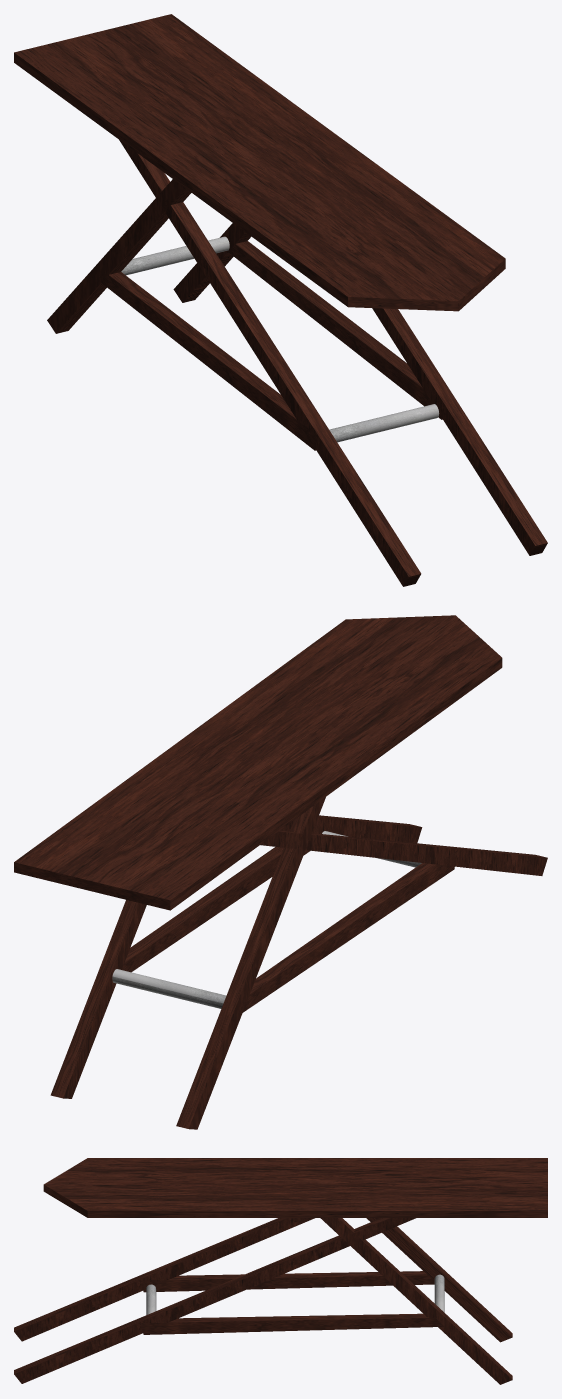
File: Ironing Board.fbx
3 renders of one model, top to bottom at view 1: azimuth 30°, elevation 25°; view 2: azimuth 150°, elevation 25°; view 3: azimuth 270°, elevation 25°, orthographic. The views are drawn at different scales.
Parts seen in each view (by area): view 1: pCube1128, pCylinder198, pCylinder197; view 2: pCube1128, pCylinder197; view 3: pCube1128, pCylinder197, pCylinder198.
Boxes of the visible parts, x1,y1,x2,y2 form: pCube1128: [14, 14, 547, 586]; pCylinder198: [329, 404, 439, 442]; pCylinder197: [121, 236, 229, 275]; pCube1128: [14, 615, 547, 1129]; pCylinder197: [112, 969, 226, 1008]; pCube1128: [14, 1158, 547, 1384]; pCylinder197: [434, 1274, 444, 1312]; pCylinder198: [146, 1284, 156, 1314].
Bounding box in the file's own units: 92.14 × 144 × 392.
